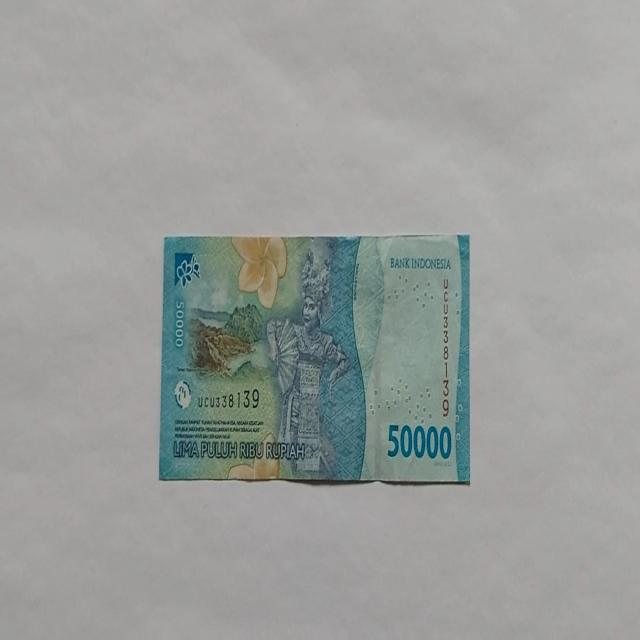lima puluh ribu rupiah: (157, 232, 470, 486)
